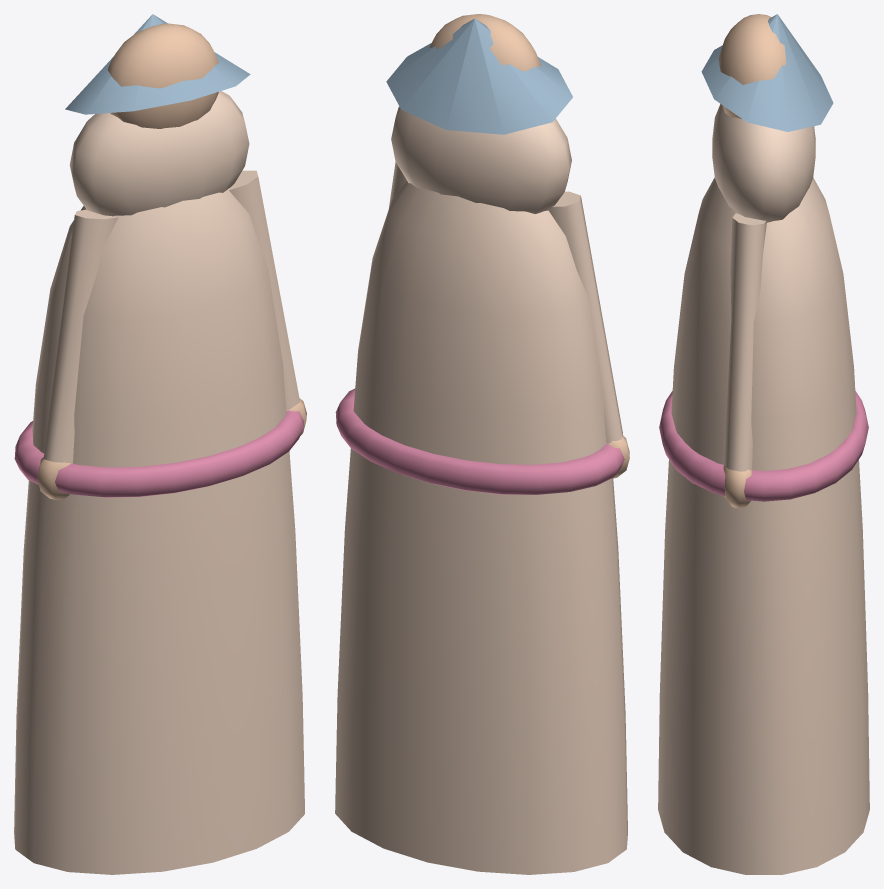
Rendered from player.glb.
The picture shows the model from 3 angles, left to right: view 1: azimuth 30°, elevation 25°; view 2: azimuth 150°, elevation 25°; view 3: azimuth 270°, elevation 25°; orthographic projection.
Parts seen in each view (by area): view 1: player; view 2: player; view 3: player.
Boxes of the visible parts, x1,y1,x2,y2 form: player: [14, 14, 306, 874]; player: [335, 14, 629, 874]; player: [658, 14, 869, 874].
Size of the model in its own units: 0.5856 by 1.67 by 0.4.
